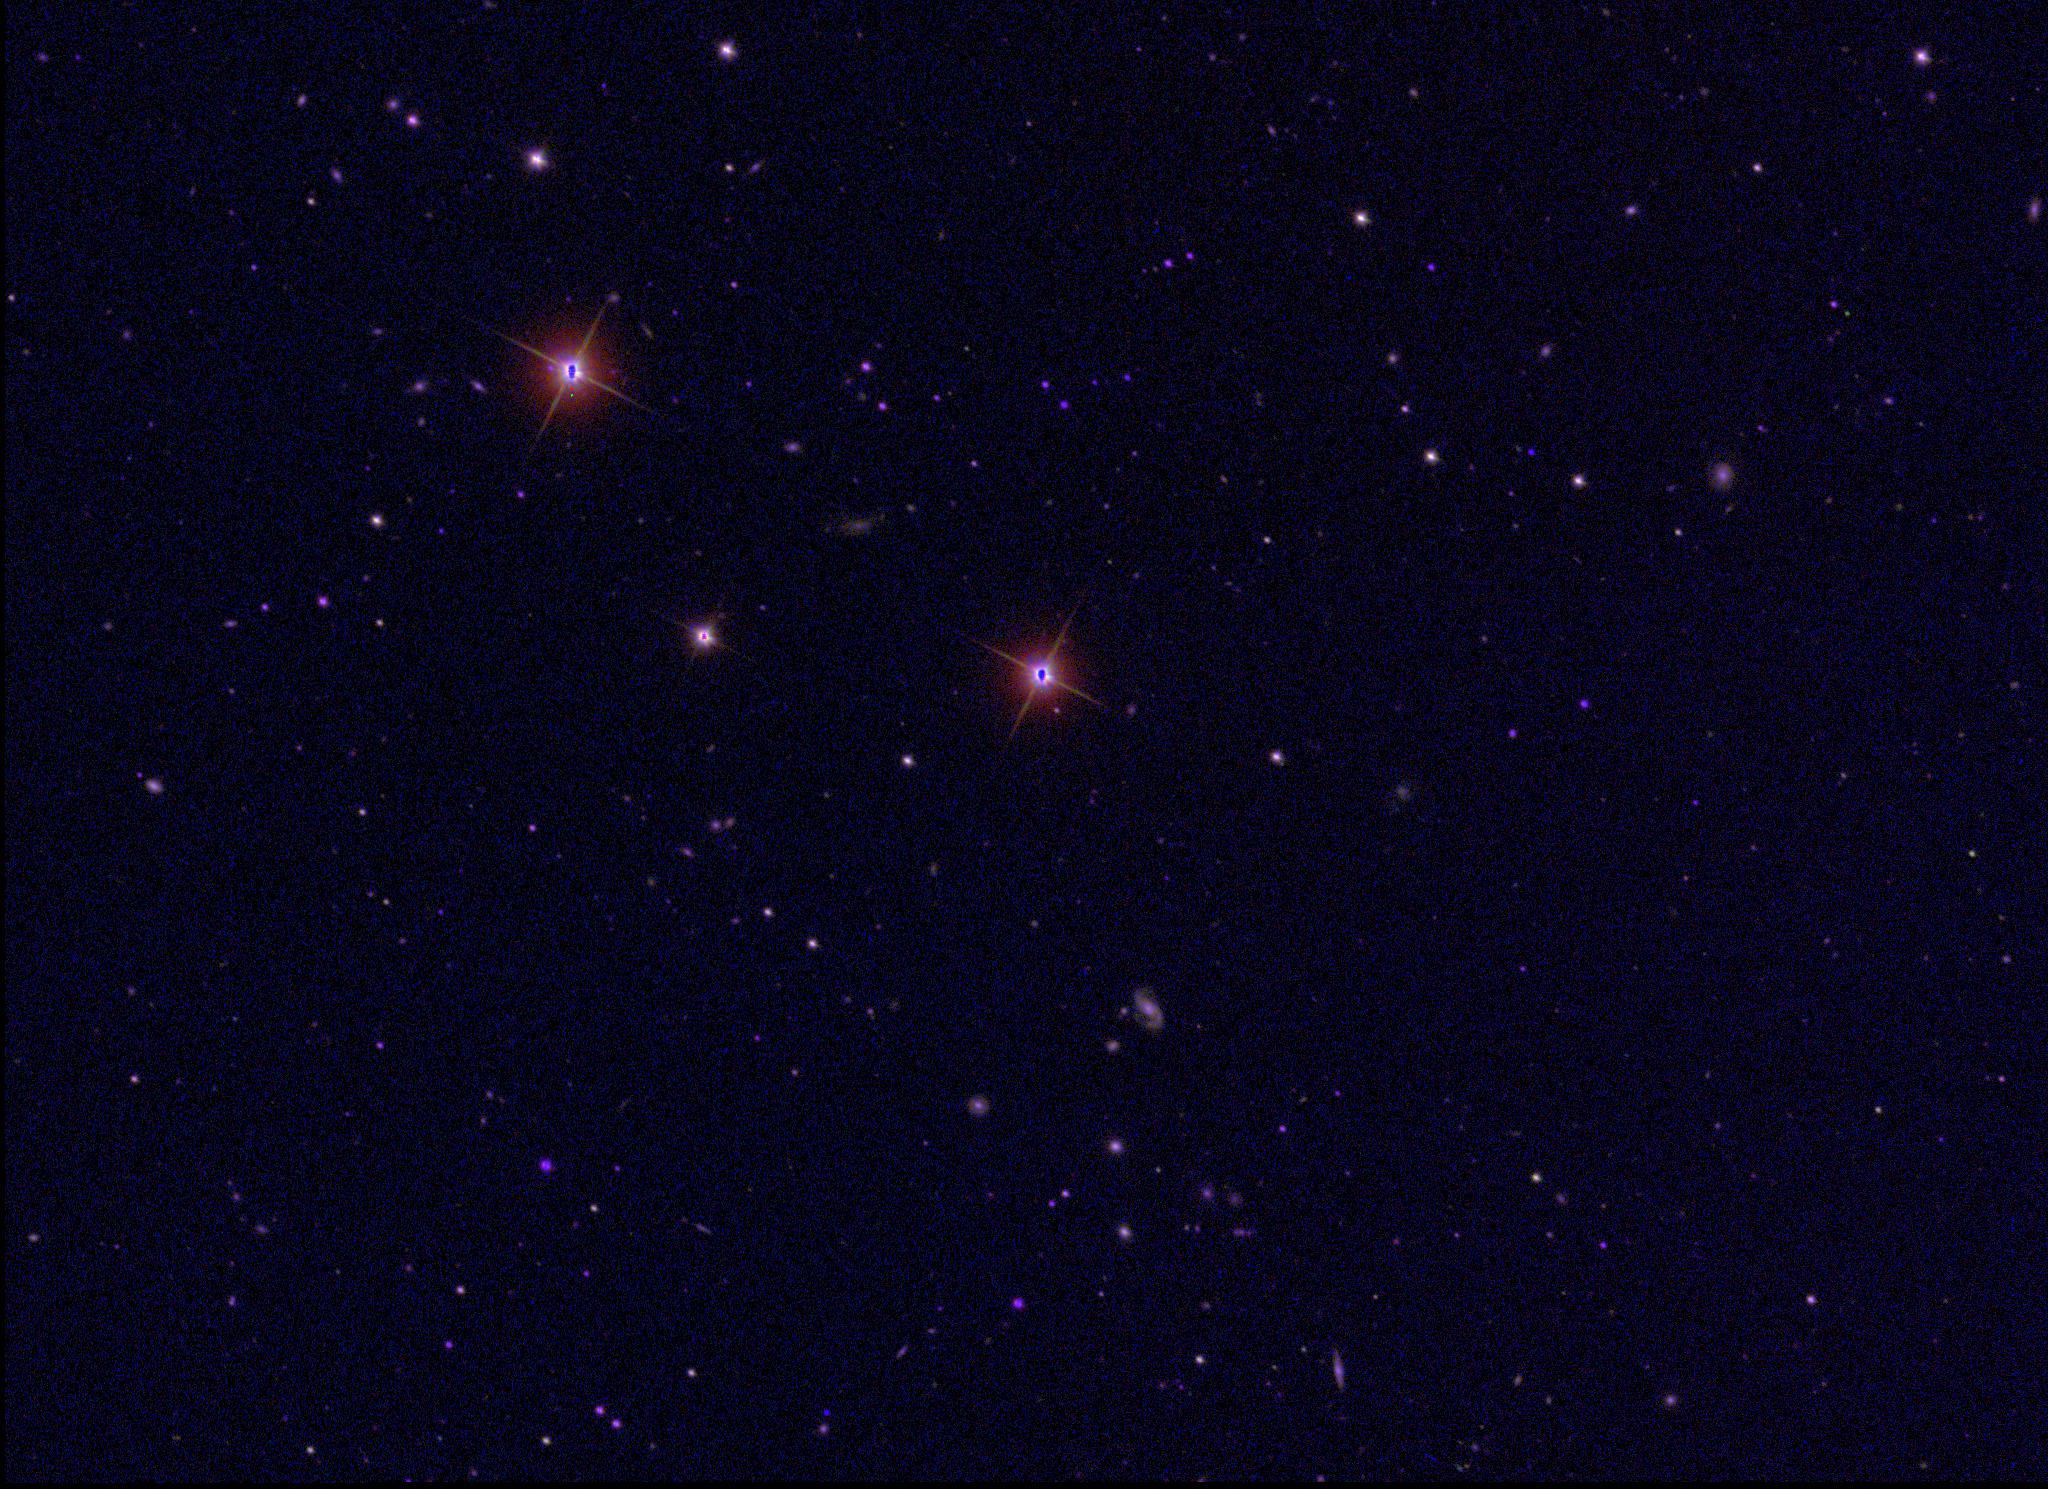L: (820, 1406, 835, 1421)
